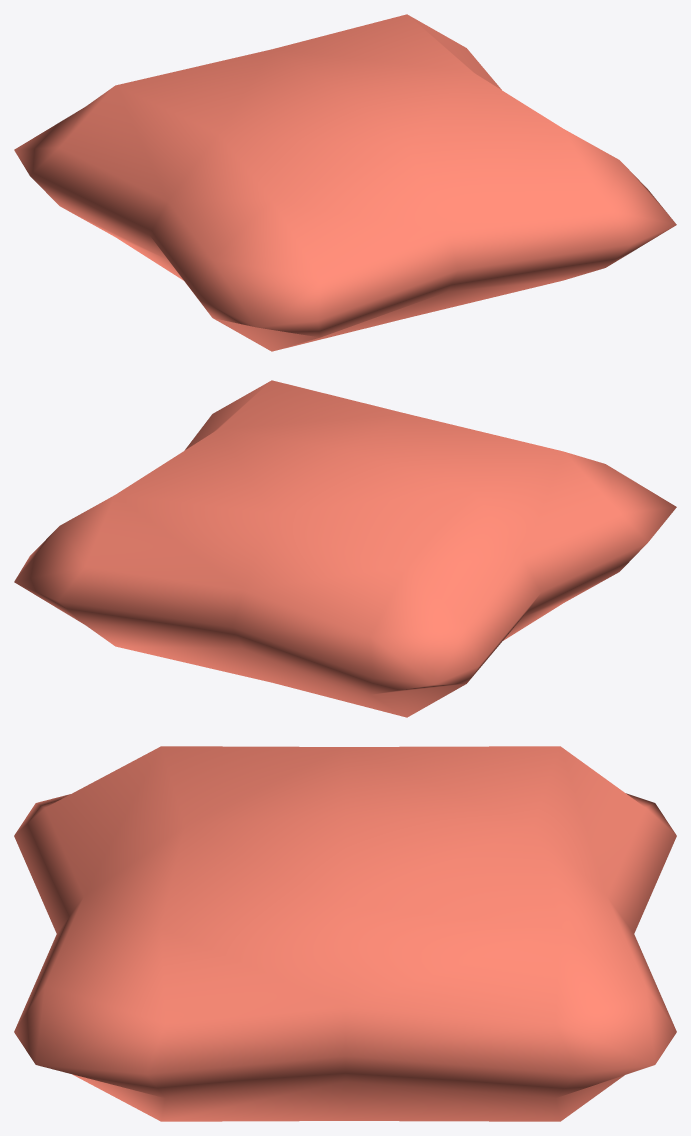
Rendered from SM_Prop_Cushion_01.obj.
3 views of the same model, one above another, from view 1: azimuth 30°, elevation 25°; view 2: azimuth 150°, elevation 25°; view 3: azimuth 270°, elevation 25° (orthographic). The views are drawn at different scales.
Visible parts, largest first — view 1: SM_Prop_Cushion_01_Mat_SwatchOverlay_PolygonTown_01_Inst; view 2: SM_Prop_Cushion_01_Mat_SwatchOverlay_PolygonTown_01_Inst; view 3: SM_Prop_Cushion_01_Mat_SwatchOverlay_PolygonTown_01_Inst.
Boxes of the visible parts, <box> form: SM_Prop_Cushion_01_Mat_SwatchOverlay_PolygonTown_01_Inst: <box>14,14,676,351</box>; SM_Prop_Cushion_01_Mat_SwatchOverlay_PolygonTown_01_Inst: <box>14,380,676,717</box>; SM_Prop_Cushion_01_Mat_SwatchOverlay_PolygonTown_01_Inst: <box>14,746,676,1121</box>.
Size of the model in its own units: 0.5396 by 0.2142 by 0.5396.
1 material, 1 textured.
